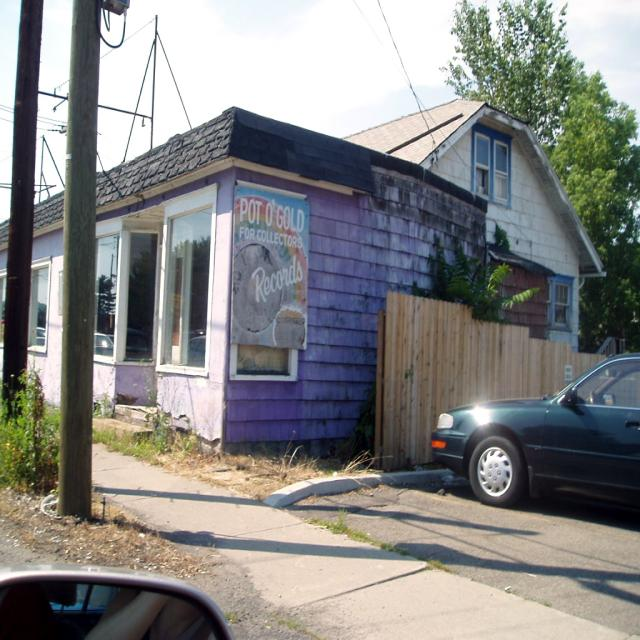Passenger Car: (429, 348, 640, 511)
